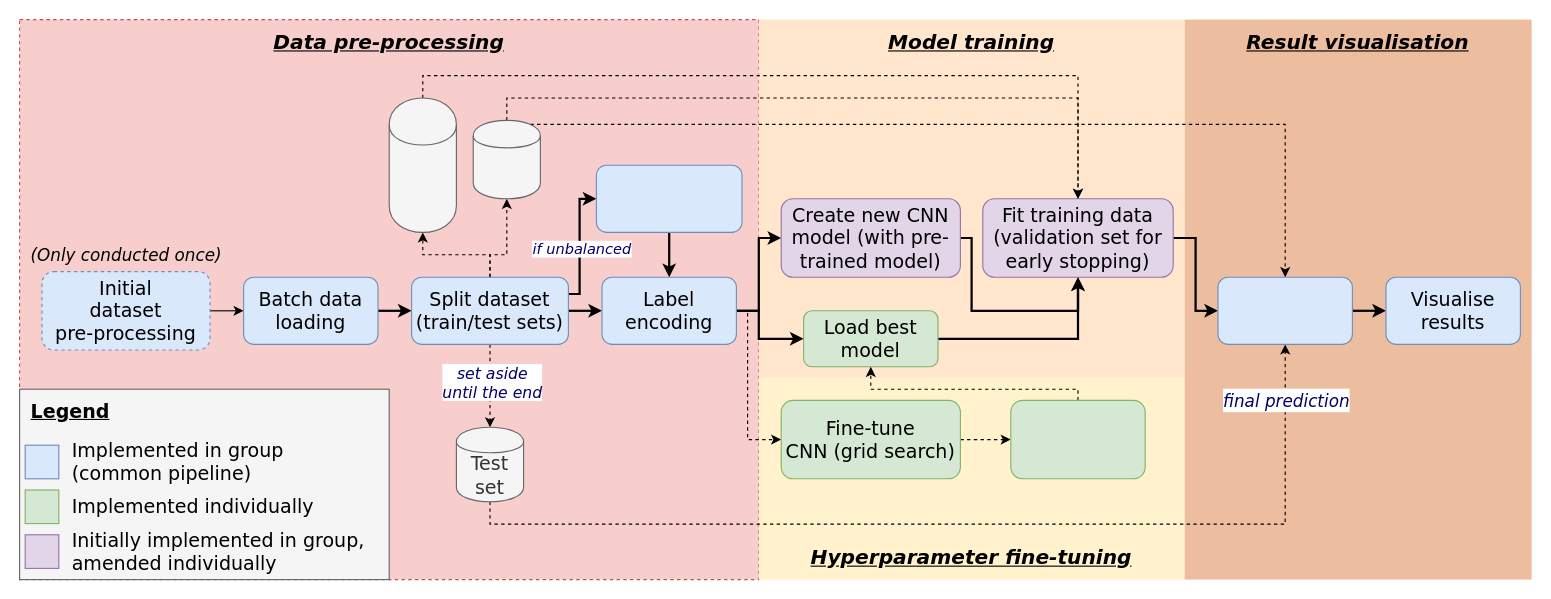
The diagram is 1551 pixels wide and 599 high, and some of its shapes have lost their labels. The shapes that lost their labels are listed below. From the top down, each one's centre as x and y in pixels, then its label:
At point (422, 164): "Train set".
At point (506, 159): "Vali. set".
At point (668, 198): "Data augmentation".
At point (1284, 310): "Make prediction".
At point (1077, 439): "Save best model".
